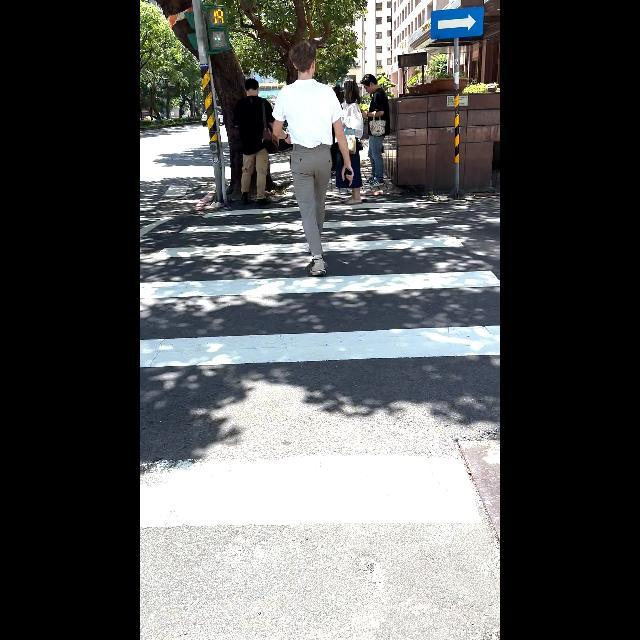sidewalk: (140, 196, 499, 529)
